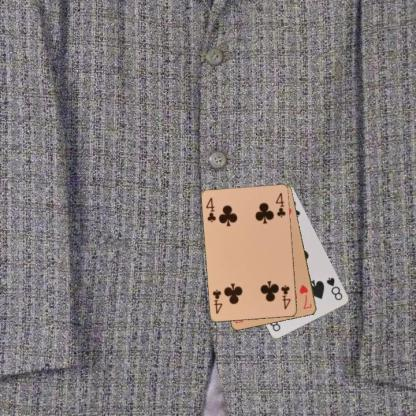4c: (204, 194, 218, 224), (278, 283, 292, 310)
7h: (297, 282, 313, 310)
8s: (324, 275, 344, 302)
